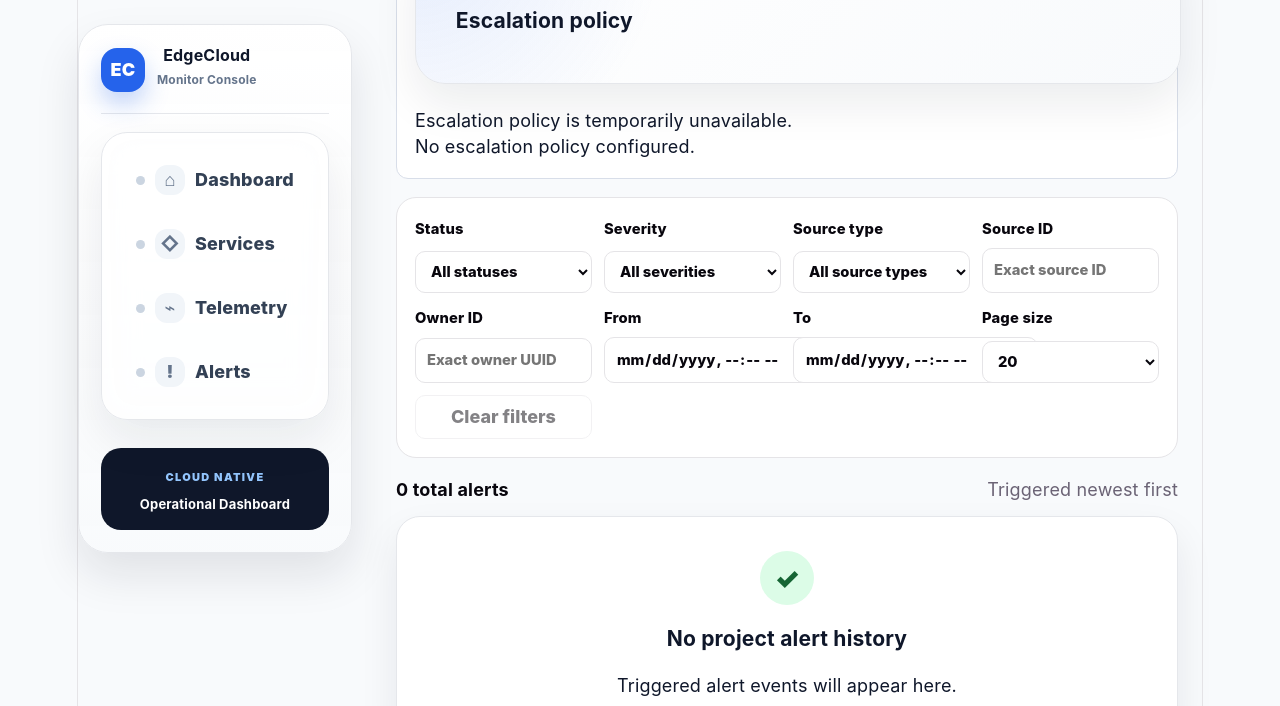
Test: ProjectAlertsPage › validates owner UUID before issuing a filtered request
This screenshot has width=1280, height=706.
(page scrolled)
Expected: the heading "No project alert history" is shown, [667,626,907,651]
Type "not-a-uuid" into the field named "Alert owner ID" at (503, 360), box [415,338,592,383]
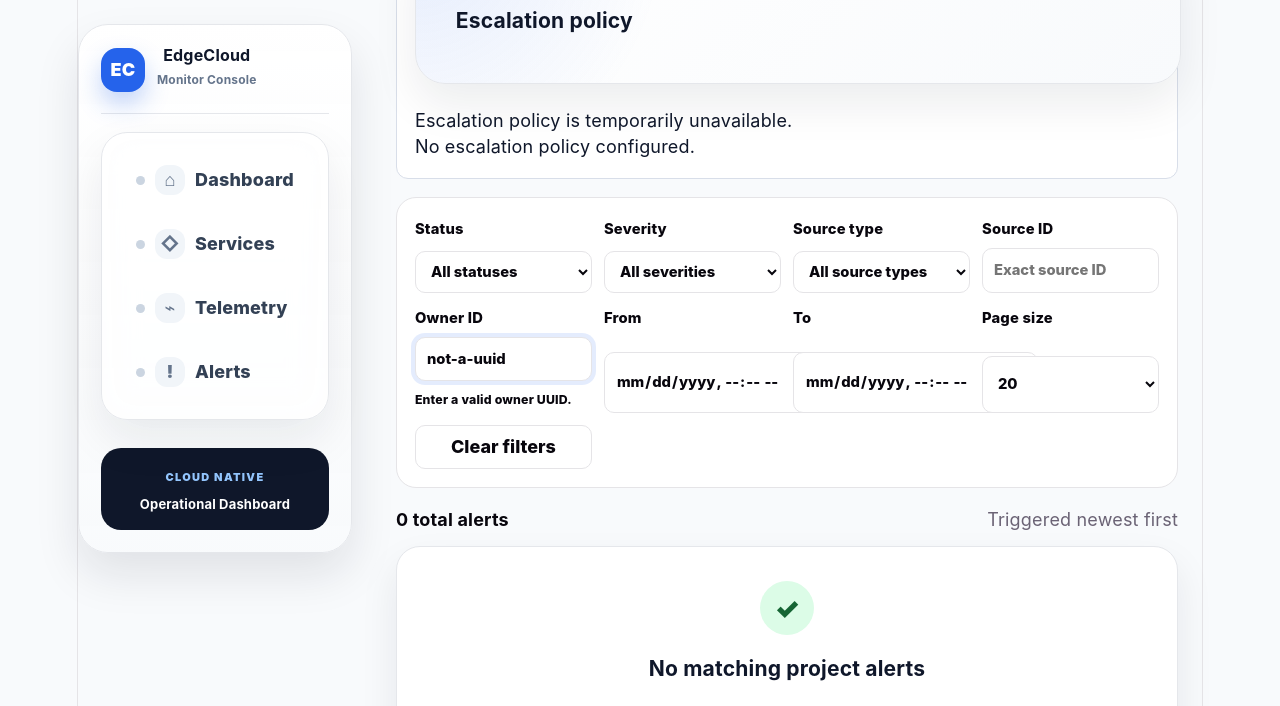
Expected: the message "Enter a valid owner UUID." is shown, [415,392,572,407]
